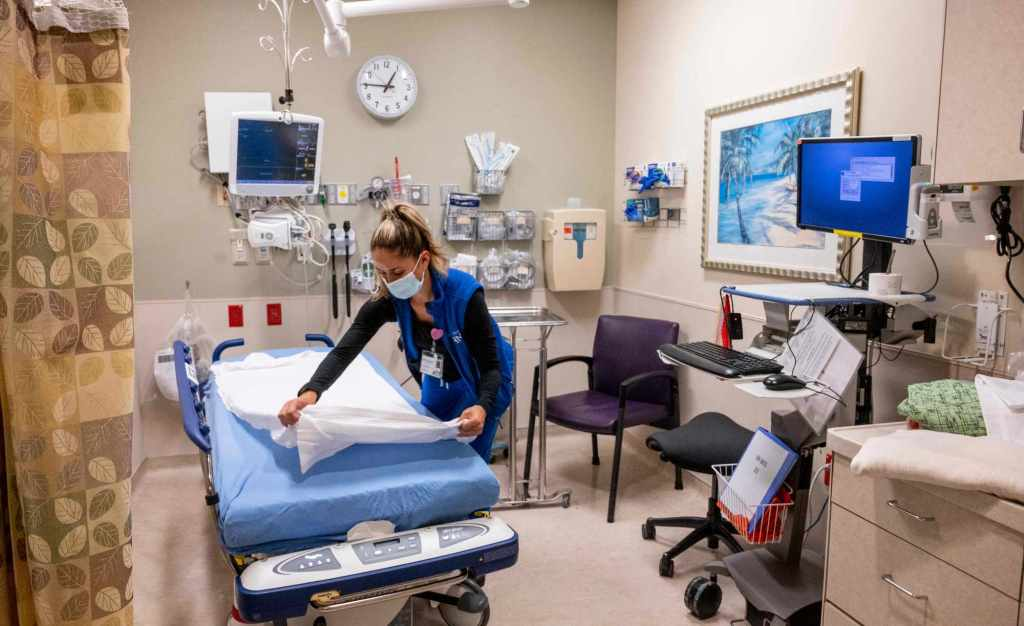bedrail: (169, 339, 213, 457)
bedside_monitor: (228, 110, 326, 200)
cabinet: (925, 1, 1024, 192)
chair: (524, 312, 694, 523), (640, 413, 754, 582)
computer: (794, 135, 923, 247)
curtain: (1, 1, 136, 626)
drawer: (828, 401, 1021, 625)
handle: (881, 569, 930, 608), (887, 495, 936, 528)
iv_pole: (256, 1, 315, 112)
keyboard: (660, 338, 784, 378)
medical_waste_container: (544, 201, 619, 310)
mouse: (765, 372, 805, 393)
staff: (277, 202, 516, 470)
utility_cart: (488, 301, 573, 510)
